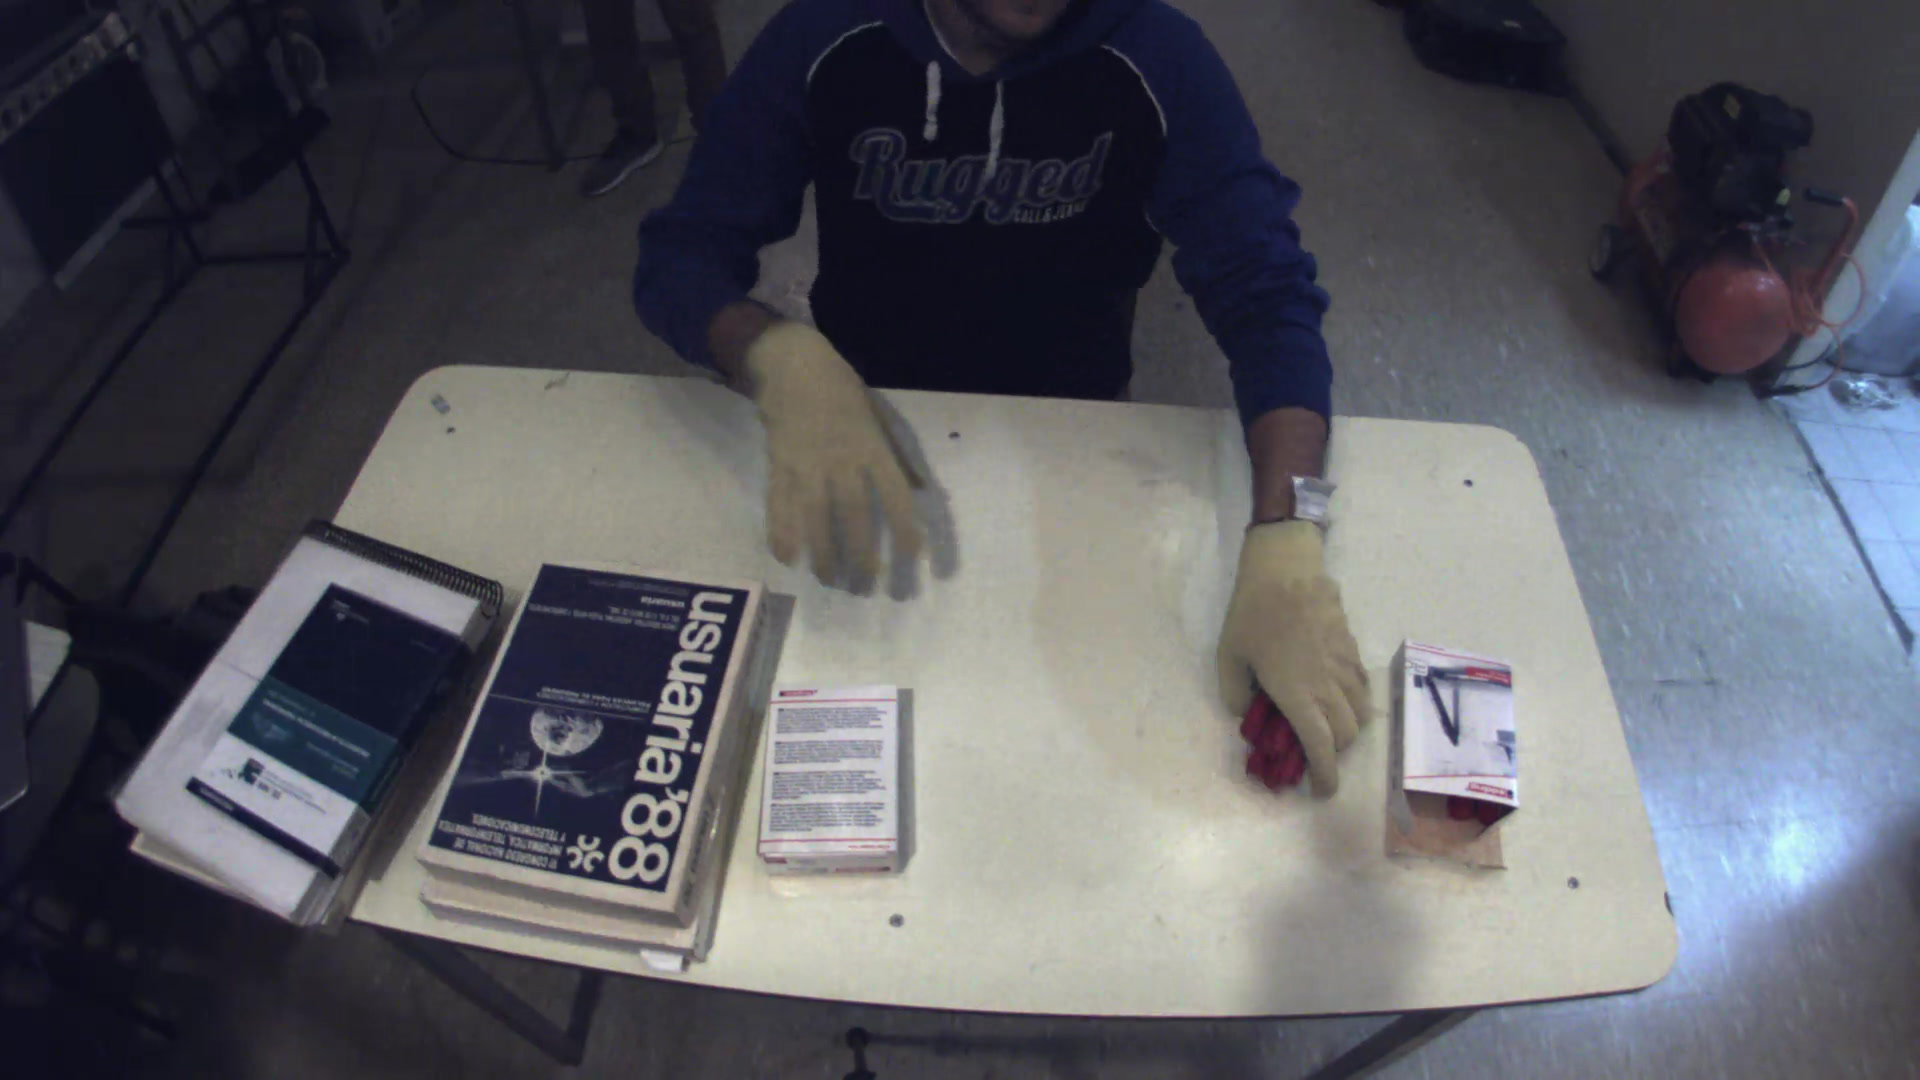hand: (728, 316, 953, 607), (1215, 513, 1395, 798)
